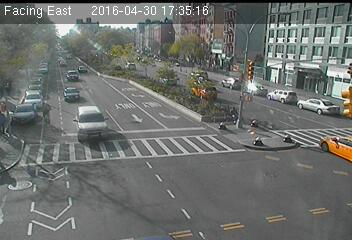neg: (153, 157, 184, 199), (142, 38, 170, 76), (78, 187, 105, 222), (273, 19, 298, 53), (265, 188, 289, 220), (34, 154, 57, 186), (115, 87, 138, 117), (303, 129, 325, 159), (91, 42, 112, 70), (304, 66, 325, 93), (192, 41, 213, 68), (28, 51, 49, 78), (57, 114, 77, 140), (214, 115, 231, 137), (263, 76, 279, 98), (95, 149, 111, 171), (236, 34, 252, 56), (247, 135, 262, 155), (241, 181, 256, 200), (240, 76, 253, 93)
